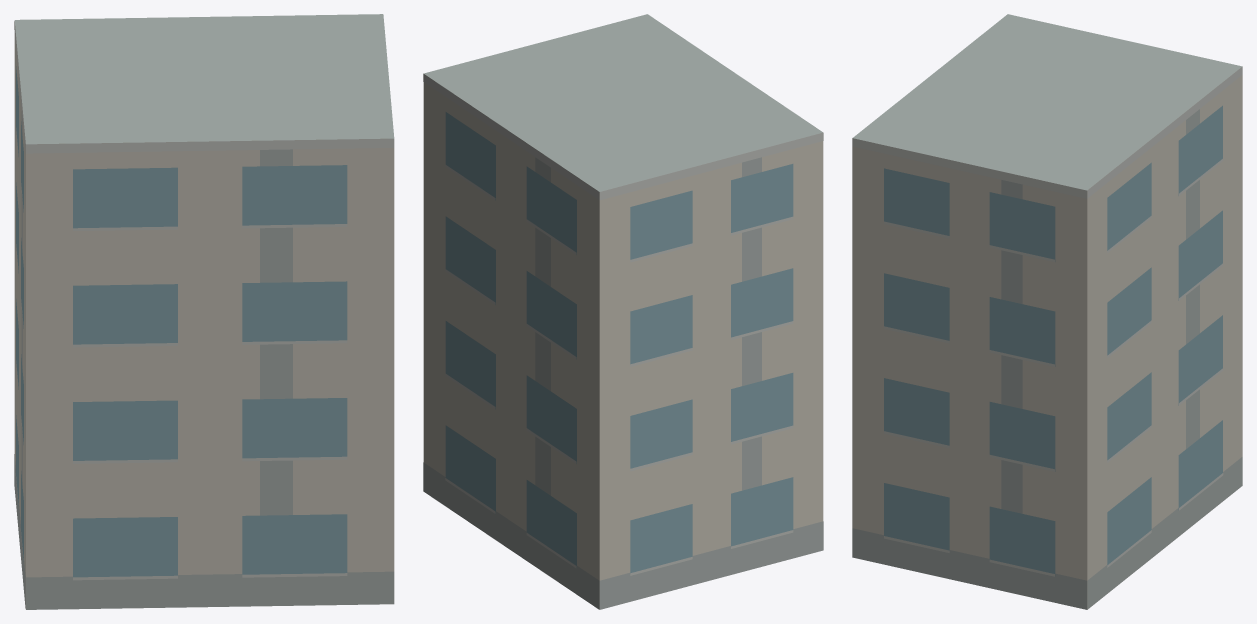
Rendered from residential-871619d7-e1b0-4f82-97a3-889fa9b6689f.glb.
The picture shows the model from 3 angles, left to right: view 1: azimuth 30°, elevation 25°; view 2: azimuth 150°, elevation 25°; view 3: azimuth 270°, elevation 25°; orthographic projection. The views are drawn at different scales.
Visible parts, largest first — view 1: residential-871619d7-e1b0-4f82-97a3-889fa9b6689f.tmp; view 2: residential-871619d7-e1b0-4f82-97a3-889fa9b6689f.tmp; view 3: residential-871619d7-e1b0-4f82-97a3-889fa9b6689f.tmp.
Part boxes in pixels (x1=…): residential-871619d7-e1b0-4f82-97a3-889fa9b6689f.tmp: x1=14, y1=14, x2=394, y2=609; residential-871619d7-e1b0-4f82-97a3-889fa9b6689f.tmp: x1=423, y1=14, x2=823, y2=609; residential-871619d7-e1b0-4f82-97a3-889fa9b6689f.tmp: x1=852, y1=14, x2=1242, y2=609.
Size of the model in its own units: 11.02 by 12.2 by 10.3.
